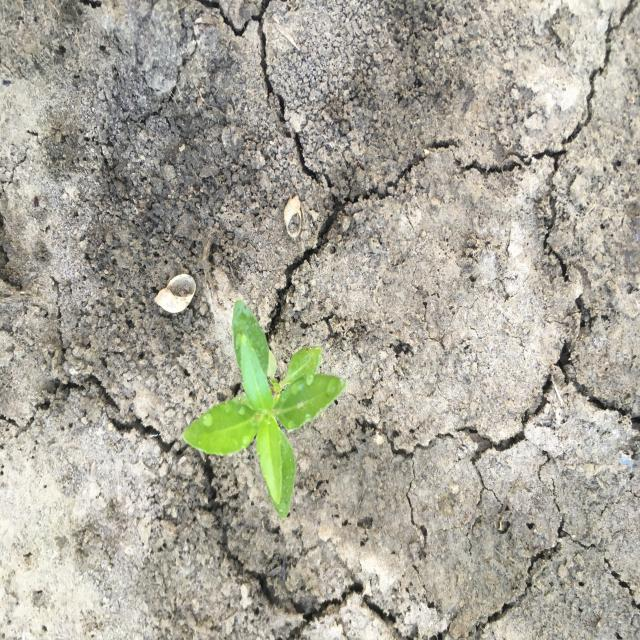Eclipta: (182, 298, 348, 520)
